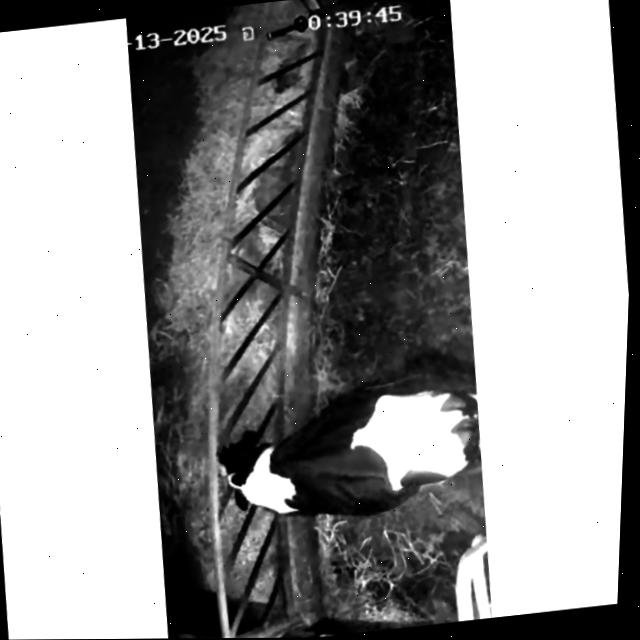eat: (170, 397, 365, 550)
